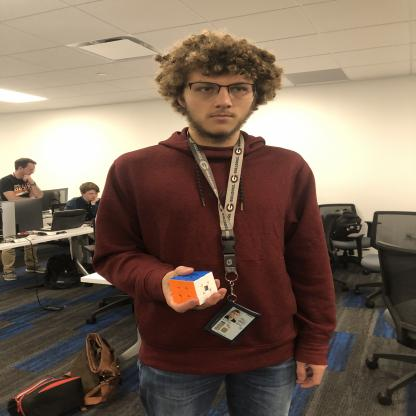SolvedCube: (164, 268, 221, 308)
